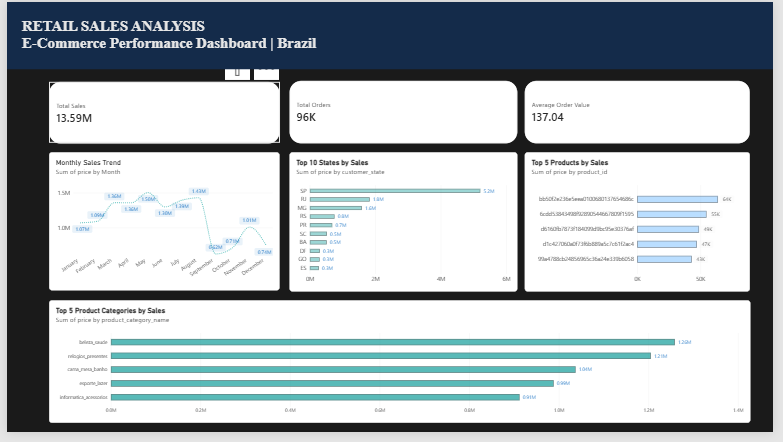

The page's visual inventory and layout, read from the dashboard file:
{"tool":"powerbi","page":{"name":"Page 1","canvas":[1920,1080],"ordinal":0},"visuals":[{"type":"cardVisual","fields":{"Data":["public order_items.Total Sales"]},"box":[106.4,199,578.5,155],"z":0},{"type":"cardVisual","fields":{"Data":["public orders.Total Orders"]},"box":[708,196.7,571.5,157.3],"z":1000},{"type":"cardVisual","fields":{"Data":["public order_items.Average Order Value"]},"box":[1298.1,196.7,564.6,157.3],"z":2000},{"type":"lineChart","title":"Monthly Sales Trend","fields":{"Category":["public orders.order_purchase_timestamp.Variation.Date Hierarchy.Month"],"Y":["Sum(public order_items.price)"]},"box":[106.4,377.2,578.5,347.1],"z":3000},{"type":"clusteredBarChart","title":"Top 5 Product Categories by Sales","fields":{"Category":["public products.product_category_name"],"Y":["Sum(public order_items.price)"]},"box":[106.4,747.4,1756.2,333.2],"z":4000},{"type":"clusteredBarChart","title":"\tTop 10 States by Sales","fields":{"Category":["public customers.customer_state"],"Y":["Sum(public order_items.price)"]},"box":[708,377.2,571.5,349.4],"z":5000},{"type":"textbox","box":[463.3,60,646.7,75],"z":6000},{"type":"shape","box":[0,0,1920.5,168.9],"z":7000},{"type":"textbox","box":[0,0,1295.8,168.9],"z":8000},{"type":"clusteredBarChart","title":"Top 5 Products by Sales","fields":{"Category":["public products.product_id"],"Y":["Sum(public order_items.price)"]},"box":[1298.1,377.2,564.6,349.4],"z":8001}]}

Visuals, with their boxes in screenshot pixels (x1, y1, x2, y2), scaled from the page's 1920x1080 canvas onto the 783x442 screenshot:
cardVisual - public order_items.Total Sales: [43,81,279,145]
cardVisual - public orders.Total Orders: [289,81,522,145]
cardVisual - public order_items.Average Order Value: [529,81,760,145]
"Monthly Sales Trend" lineChart: [43,154,279,296]
"Top 5 Product Categories by Sales" clusteredBarChart: [43,306,760,441]
"	Top 10 States by Sales" clusteredBarChart: [289,154,522,297]
textbox: [189,25,453,55]
shape: [0,0,782,69]
textbox: [0,0,528,69]
"Top 5 Products by Sales" clusteredBarChart: [529,154,760,297]
